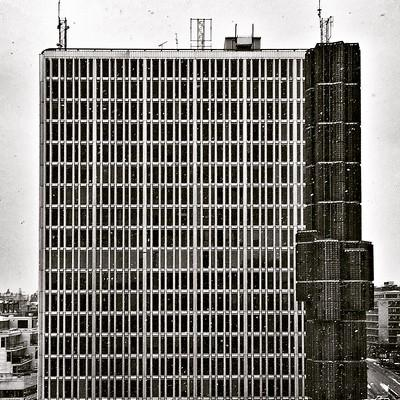building: (32, 38, 372, 400)
